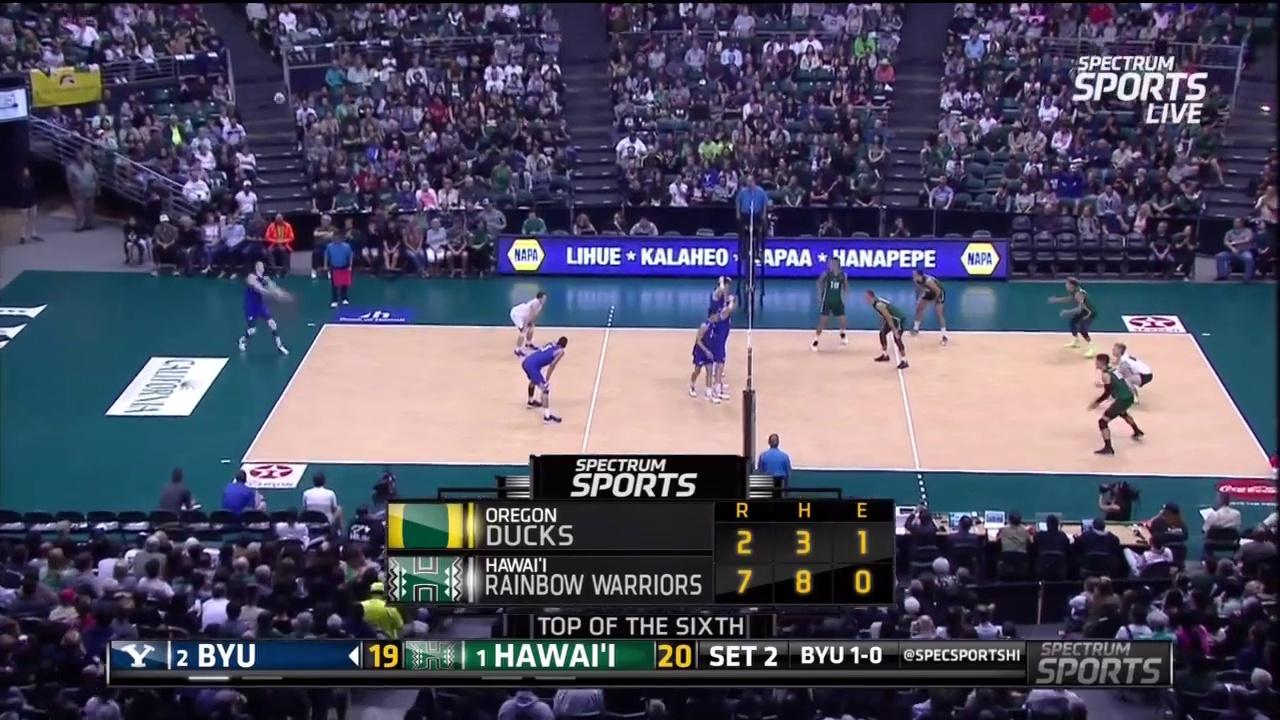player: (1087, 355, 1146, 453), (241, 257, 295, 354), (523, 332, 569, 425), (1100, 342, 1158, 412), (864, 286, 908, 366), (811, 257, 847, 350), (704, 274, 733, 382), (713, 293, 742, 400), (507, 287, 549, 359), (1056, 279, 1097, 352), (688, 307, 720, 399), (913, 262, 947, 339)
refree: (749, 430, 797, 500), (728, 170, 769, 249), (325, 230, 354, 308)
